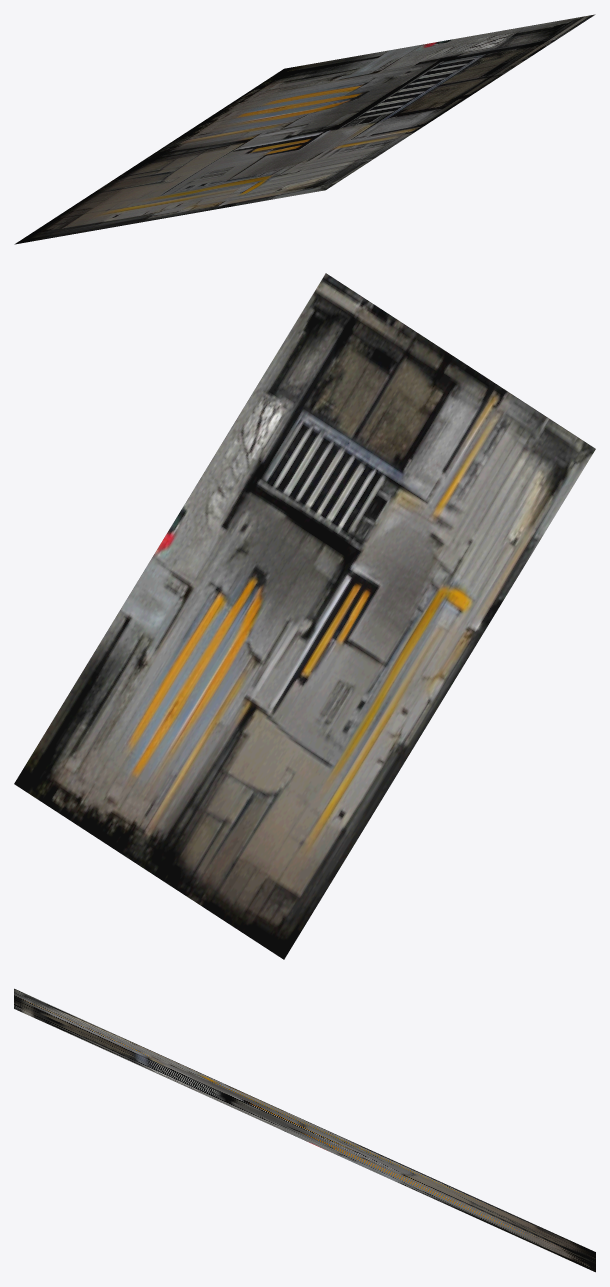
File: Schlucht4x8_SchrägRechts_1446.glb
3 renders of one model, top to bottom at view 1: azimuth 30°, elevation 25°; view 2: azimuth 150°, elevation 25°; view 3: azimuth 270°, elevation 25°, orthographic. The views are drawn at different scales.
Parts seen in each view (by area): view 1: pPlaneShape177; view 2: pPlaneShape177; view 3: pPlaneShape177.
Boxes of the visible parts, left/top/right/bottom form: pPlaneShape177: left=14, top=14, right=595, bottom=244; pPlaneShape177: left=14, top=273, right=595, bottom=959; pPlaneShape177: left=14, top=988, right=595, bottom=1272.
Size of the model in its own units: 1 by 1.39 by 2.
1 material, 1 textured.
